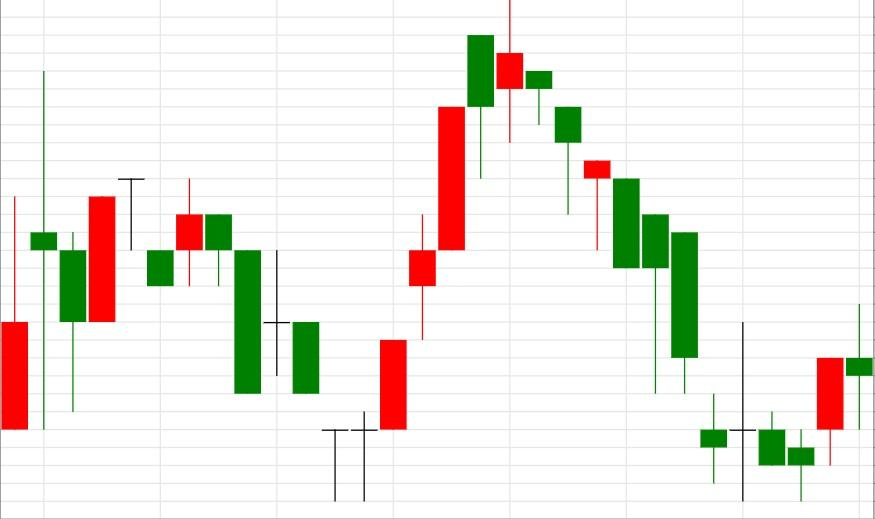three_white_soldiers_rise: (175, 106, 466, 501)
